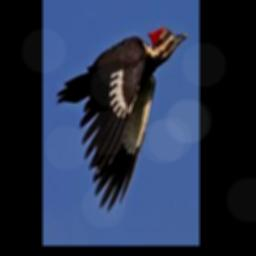Woodpecker: (56, 26, 187, 210)
